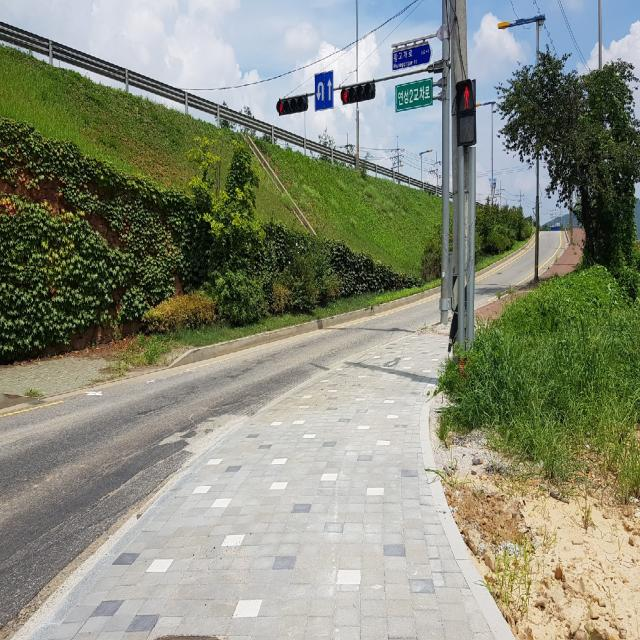빨간불: (456, 78, 476, 147)
